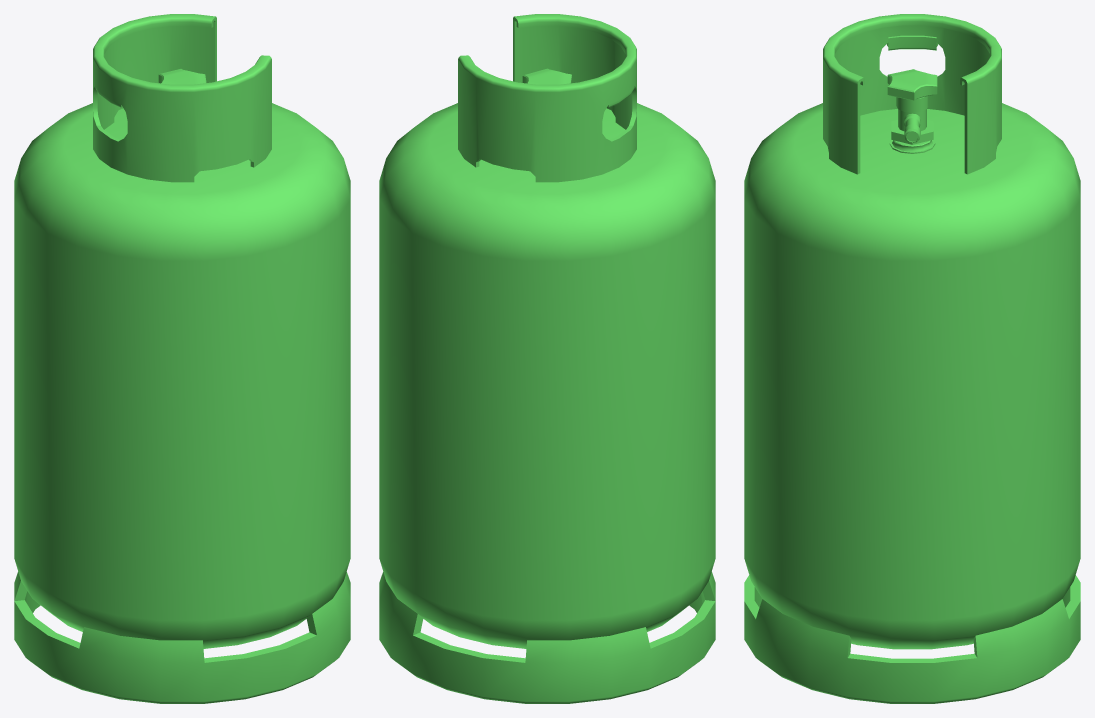
The model's file is gasCylinderMedium.fbx.
The picture shows the model from 3 angles, left to right: view 1: azimuth 30°, elevation 25°; view 2: azimuth 150°, elevation 25°; view 3: azimuth 270°, elevation 25°; orthographic projection.
Parts seen in each view (by area): view 1: Gas_Cylinder_Medium; view 2: Gas_Cylinder_Medium; view 3: Gas_Cylinder_Medium.
Boxes of the visible parts, left/top/right/bottom form: Gas_Cylinder_Medium: left=14, top=14, right=350, bottom=703; Gas_Cylinder_Medium: left=379, top=14, right=715, bottom=703; Gas_Cylinder_Medium: left=744, top=14, right=1080, bottom=703.
Size of the model in its own units: 31.64 by 60.67 by 31.64.
